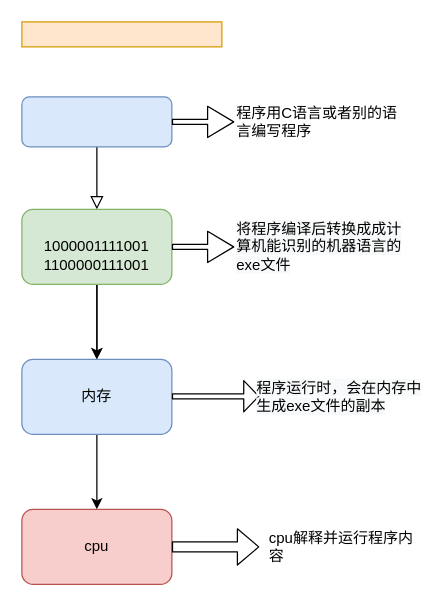
Some shapes in this 446 by 606 pixel diagram are drawn without their labels. Here are the shapes that lost their labels. From the top down, the box of each, then its label:
(21, 21, 222, 47): 程序运行流程示意图
(21, 96, 172, 147): let i=0; console.log(i)
